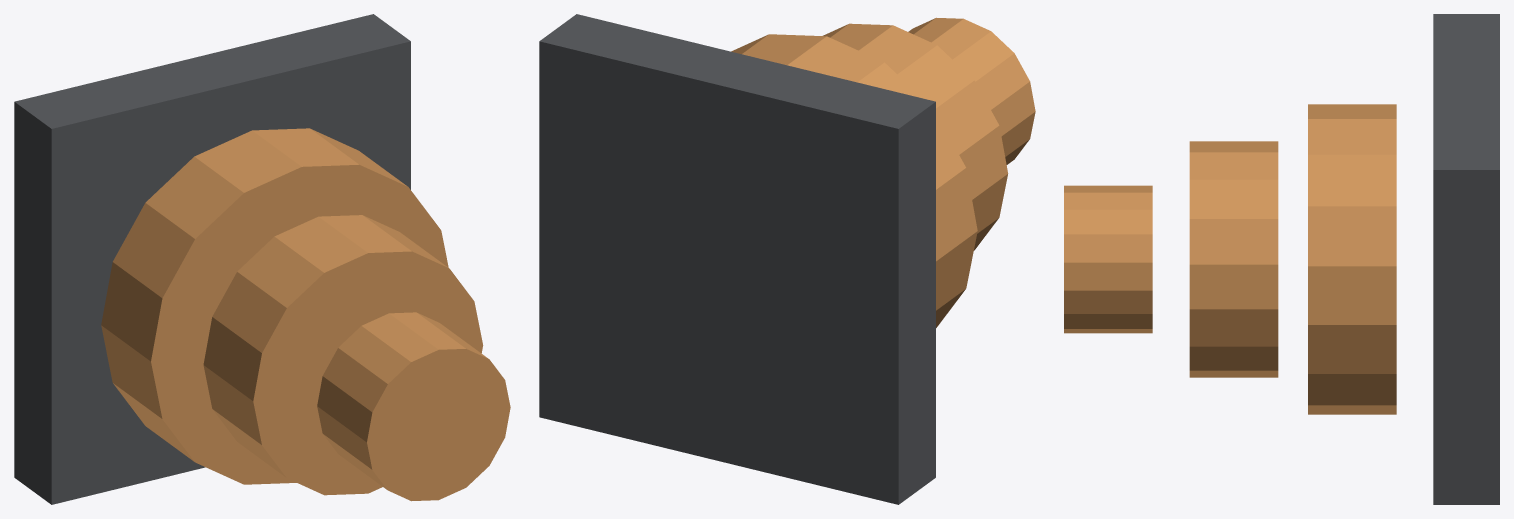
The model's file is traffic_cone.glb.
3 views of the same model, side by side, from view 1: azimuth 30°, elevation 25°; view 2: azimuth 150°, elevation 25°; view 3: azimuth 270°, elevation 25° (orthographic). The views are drawn at different scales.
Visible parts, largest first — view 1: world; view 2: world; view 3: world.
Boxes of the visible parts, bbox=[...] form: world: bbox=[14, 14, 510, 504]; world: bbox=[539, 14, 1035, 504]; world: bbox=[1064, 14, 1499, 504].
Size of the model in its own units: 0.5 by 0.5 by 0.59.
